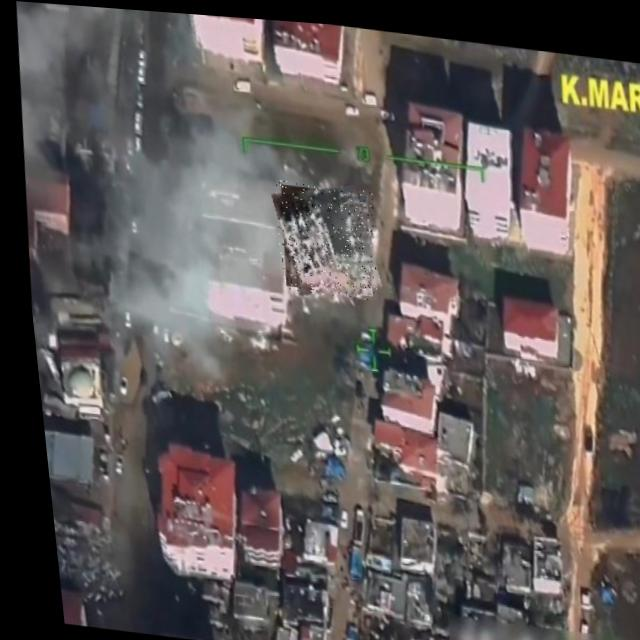Rubble: (267, 175, 378, 296)
